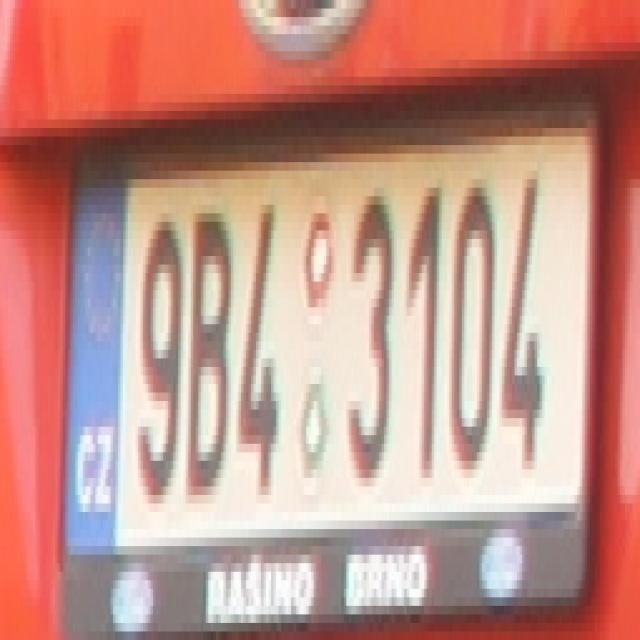0: (449, 171, 492, 469)
1: (406, 171, 436, 469)
3: (349, 188, 389, 478)
4: (238, 188, 278, 495), (500, 162, 540, 469)
9: (138, 213, 181, 495)
B: (184, 213, 228, 495)
